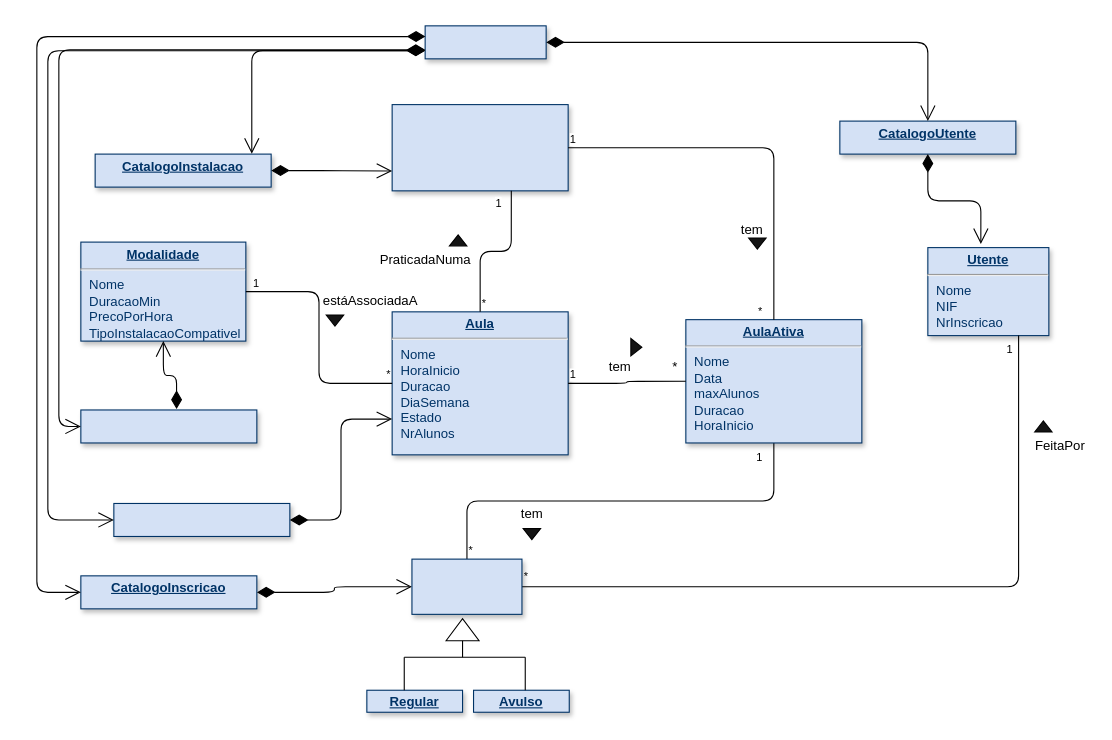
Some shapes in this 1112 by 740 pixel diagram are drawn without their labels. Here are the shapes that lost their labels. From the top down, the centre of each, then its label:
At [486,43]: "AulaGes".
At [481,149]: "Instalação Capacidade Nome Tipo".
At [169,427]: "CatalogoModalidade".
At [202,521]: "CatalogoAulas".
At [467,588]: "Inscrição Descrição".
